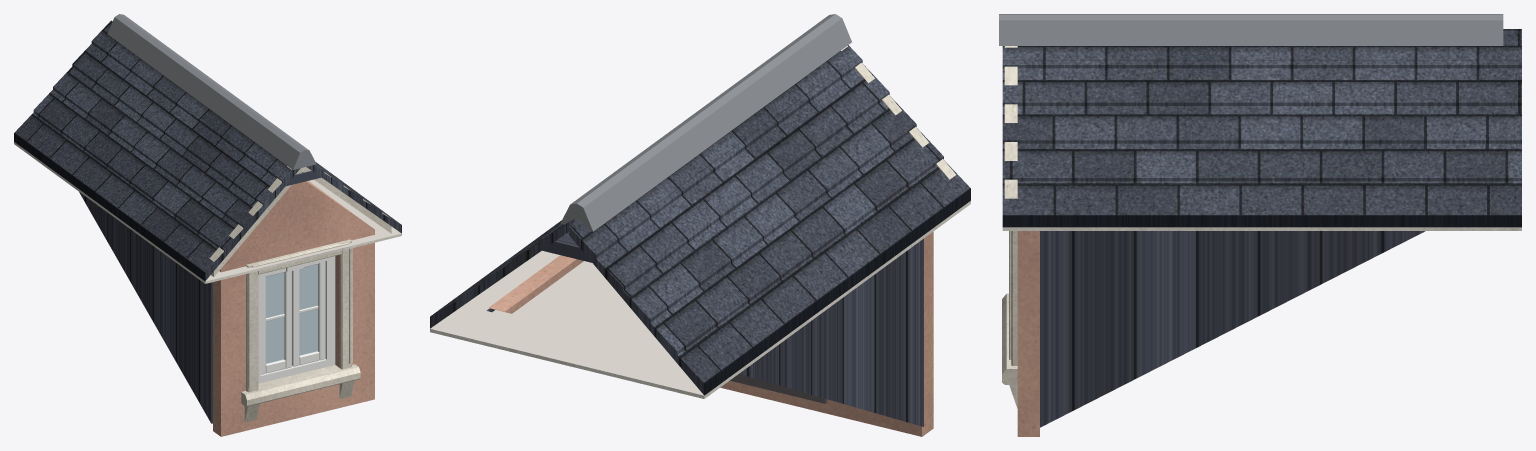
Rendered from dormer.glb.
3 renders of one model, left to right at view 1: azimuth 30°, elevation 25°; view 2: azimuth 150°, elevation 25°; view 3: azimuth 270°, elevation 25°, orthographic. The views are drawn at different scales.
Parts seen in each view (by area): view 1: dormer_shingles, dormer_render, dormer_trim, dormer_ridge, dormer_sash, dormer_glass, dormer_plaster, dormer_frame; view 2: dormer_shingles, dormer_plaster, dormer_ridge, dormer_render, dormer_trim, dormer_dark; view 3: dormer_shingles, dormer_ridge, dormer_render, dormer_trim, dormer_plaster.
Part boxes in pixels (x1,y1,x2,y2): dormer_shingles: (14,20,401,423); dormer_render: (213,181,374,436); dormer_trim: (209,166,391,422); dormer_ridge: (107,14,316,169); dormer_sash: (260,261,325,374); dormer_glass: (266,264,317,363); dormer_plaster: (14,142,401,283); dormer_frame: (258,256,335,383); dormer_shingles: (430,45,970,426); dormer_plaster: (430,201,970,398); dormer_ridge: (560,14,851,231); dormer_render: (488,231,933,436); dormer_trim: (841,46,956,179); dormer_dark: (730,374,827,403); dormer_shingles: (1002,29,1521,427); dormer_ridge: (999,14,1503,45); dormer_render: (1017,231,1039,436); dormer_trim: (1002,46,1017,408); dormer_plaster: (1002,227,1521,230).
Size of the model in its own units: 1.66 by 2.2 by 2.81.
9 materials, 4 textured.
